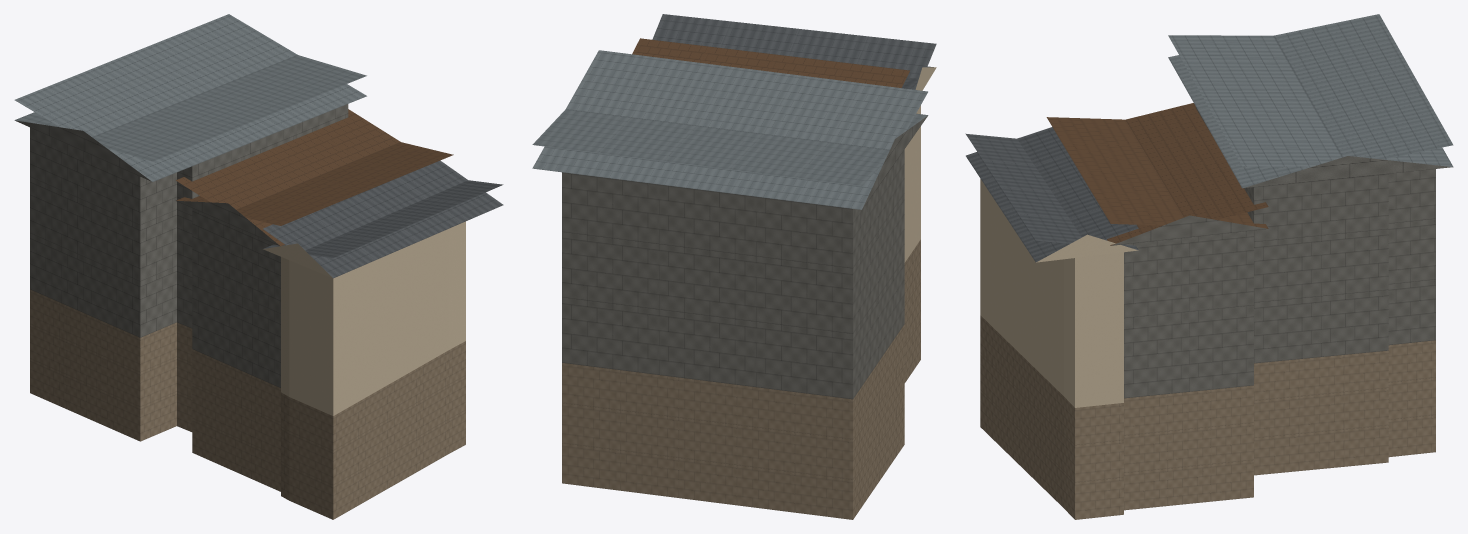
The model's file is bld_c22_43_376.gltf.
3 renders of one model, left to right at view 1: azimuth 30°, elevation 25°; view 2: azimuth 150°, elevation 25°; view 3: azimuth 270°, elevation 25°, orthographic. The views are drawn at different scales.
Parts seen in each view (by area): view 1: bld_c22_43_376; view 2: bld_c22_43_376; view 3: bld_c22_43_376.
Boxes of the visible parts, x1=… form: bld_c22_43_376: x1=14, y1=14, x2=503, y2=519; bld_c22_43_376: x1=532, y1=14, x2=936, y2=519; bld_c22_43_376: x1=965, y1=14, x2=1453, y2=519.
Size of the model in its own units: 17 by 15.6 by 20.15.
8 materials, 8 textured.
